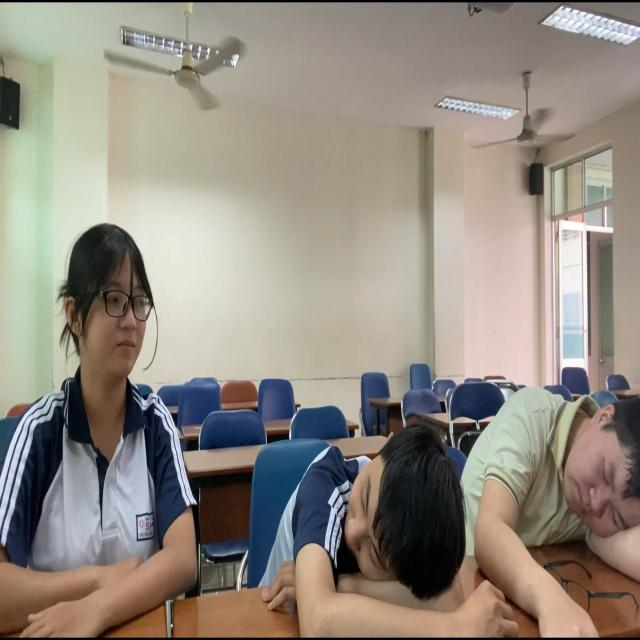sleep: (262, 416, 475, 640), (460, 379, 640, 604)
